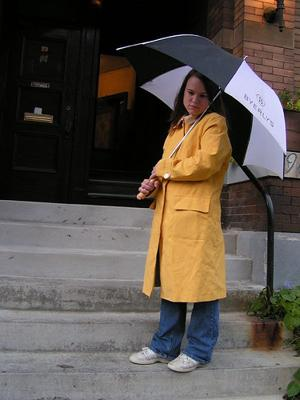person: (130, 69, 233, 373)
